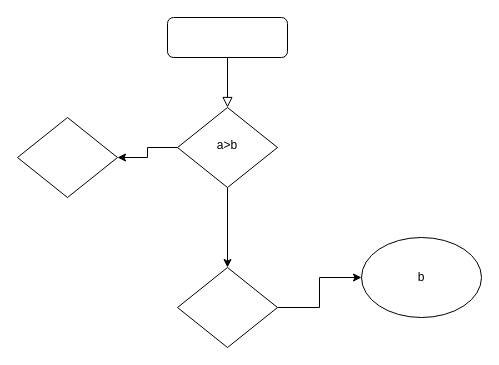
Some shapes in this 499 by 365 pixel diagram are drawn without their labels. The centre of each missing label's shape, as x and y in pixels:
"a b c" belongs at pixel 227 37.
"b>c" belongs at pixel 227 307.
